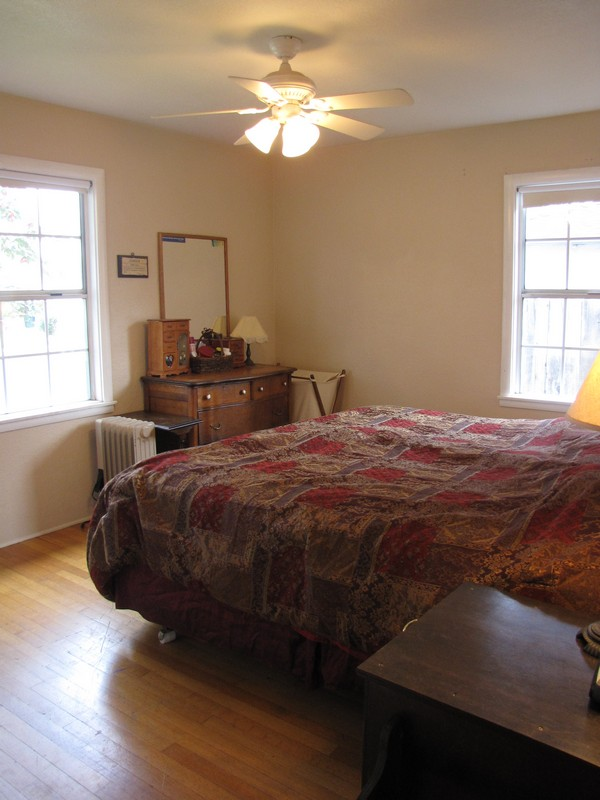bed: (88, 398, 597, 677)
lamp: (225, 317, 268, 367)
stool: (91, 412, 205, 508)
table: (357, 578, 599, 784)
